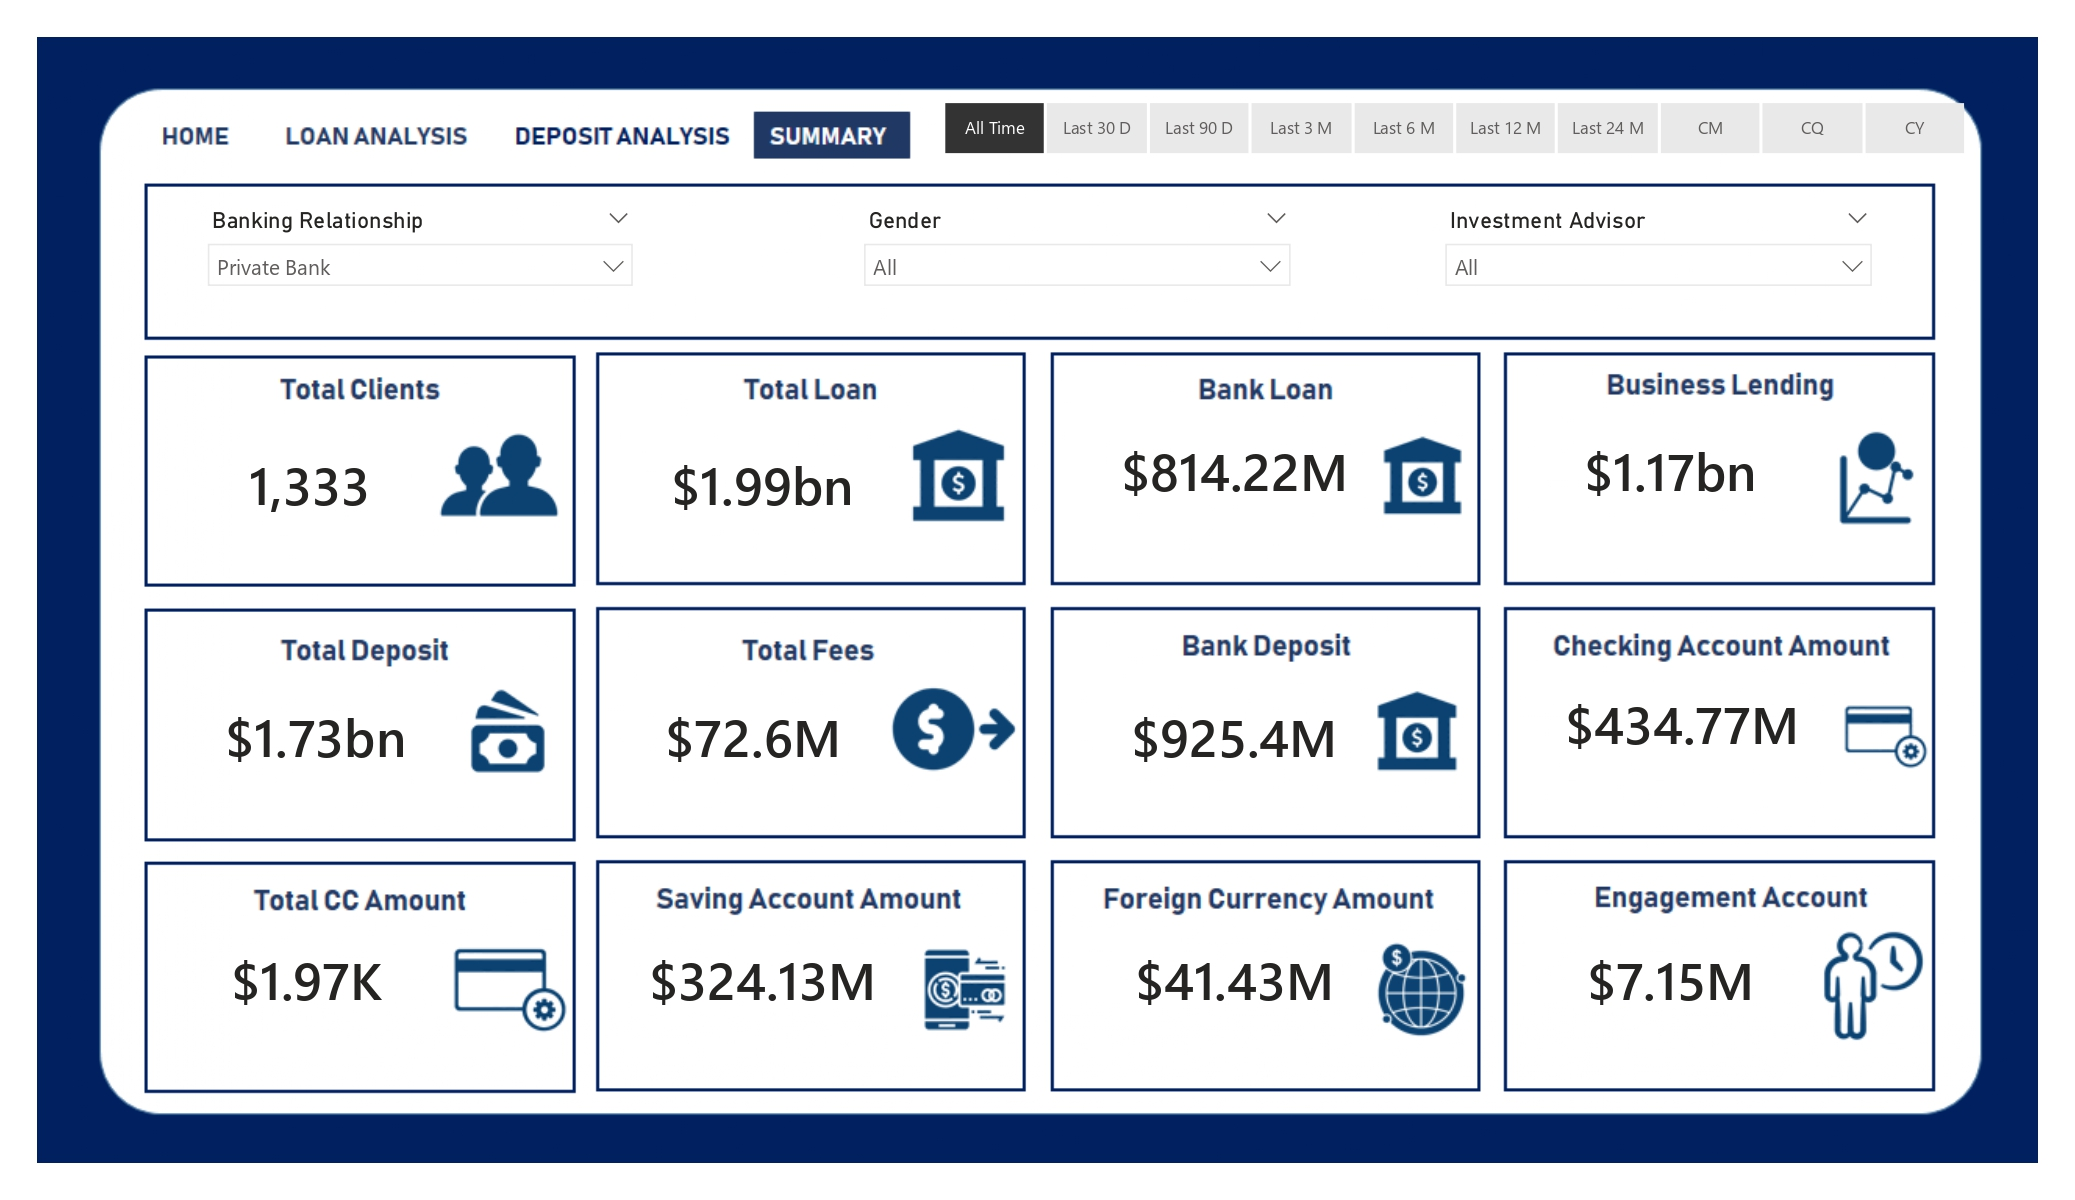

The page's visual inventory and layout, read from the dashboard file:
{"tool":"powerbi","page":{"name":"Summary","canvas":[1280,720],"ordinal":3},"visuals":[{"type":"card","fields":{"Values":["DAX Measures.Engagment Length"]},"box":[946.3,546.4,198.2,114.9],"z":0},{"type":"card","fields":{"Values":["DAX Measures.Foreign Currency Account"]},"box":[667.2,546.4,198.2,114.9],"z":1000},{"type":"card","fields":{"Values":["DAX Measures.Bank Deposit"]},"box":[667.2,390.5,198.2,114.9],"z":2000},{"type":"card","fields":{"Values":["DAX Measures.Checking Accounts"]},"box":[953.4,382.3,198.2,114.9],"z":3000},{"type":"card","fields":{"Values":["DAX Measures.Bank Loan"]},"box":[667.2,220.5,198.2,114.9],"z":4000},{"type":"card","fields":{"Values":["DAX Measures.Business Lending"]},"box":[953.4,220.5,184.1,114.9],"z":5000},{"type":"card","fields":{"Values":["DAX Measures.Savings Account"]},"box":[360,546.4,207.6,114.9],"z":6000},{"type":"card","fields":{"Values":["DAX Measures.Total CC Amount"]},"box":[72.7,546.4,198.2,114.9],"z":7000},{"type":"card","fields":{"Values":["DAX Measures.Total Deposit"]},"box":[78.6,390.5,198.2,114.9],"z":8000},{"type":"card","fields":{"Values":["DAX Measures.Total Fees"]},"box":[365.9,390.5,184.1,114.9],"z":9000},{"type":"card","fields":{"Values":["DAX Measures.Total Clients"]},"box":[75,228.7,198.2,114.9],"z":10000},{"type":"card","fields":{"Values":["DAX Measures.Total Loan"]},"box":[365.9,228.7,195.8,114.9],"z":11000},{"type":"slicer","fields":{"Values":["Banking Relationship.Banking Relationship"]},"box":[98.5,104.3,292.9,75.7],"z":12000},{"type":"slicer","fields":{"Values":["Gender.Gender"]},"box":[518.9,104.3,292.9,75.7],"z":13000},{"type":"slicer","fields":{"Values":["Investment Advisor.Investment Advisor"]},"box":[891.3,104.3,292.9,75.7],"z":14000},{"type":"slicer","fields":{"Values":["Period.Name"]},"box":[555.2,34.6,702.1,46.6],"z":15000},{"type":"actionButton","box":[72.8,44.2,58.5,31],"z":16000},{"type":"actionButton","box":[306.9,44.7,119.4,31],"z":17000},{"type":"actionButton","box":[297.9,44.6,147.8,30.5],"z":18000},{"type":"actionButton","box":[157.1,44.6,125.5,30.5],"z":19000}]}

Visuals, with their boxes on the page's 1280x720 design canvas (x1, y1, x2, y2). These are canvas units, not pixel positions in the 2075x1200 screenshot, which may show the page scaled, cropped or inside an application window:
card - DAX Measures.Engagment Length: region(946, 546, 1144, 661)
card - DAX Measures.Foreign Currency Account: region(667, 546, 865, 661)
card - DAX Measures.Bank Deposit: region(667, 390, 865, 505)
card - DAX Measures.Checking Accounts: region(953, 382, 1152, 497)
card - DAX Measures.Bank Loan: region(667, 220, 865, 335)
card - DAX Measures.Business Lending: region(953, 220, 1138, 335)
card - DAX Measures.Savings Account: region(360, 546, 568, 661)
card - DAX Measures.Total CC Amount: region(73, 546, 271, 661)
card - DAX Measures.Total Deposit: region(79, 390, 277, 505)
card - DAX Measures.Total Fees: region(366, 390, 550, 505)
card - DAX Measures.Total Clients: region(75, 229, 273, 344)
card - DAX Measures.Total Loan: region(366, 229, 562, 344)
slicer - Banking Relationship.Banking Relationship: region(98, 104, 391, 180)
slicer - Gender.Gender: region(519, 104, 812, 180)
slicer - Investment Advisor.Investment Advisor: region(891, 104, 1184, 180)
slicer - Period.Name: region(555, 35, 1257, 81)
actionButton: region(73, 44, 131, 75)
actionButton: region(307, 45, 426, 76)
actionButton: region(298, 45, 446, 75)
actionButton: region(157, 45, 283, 75)
